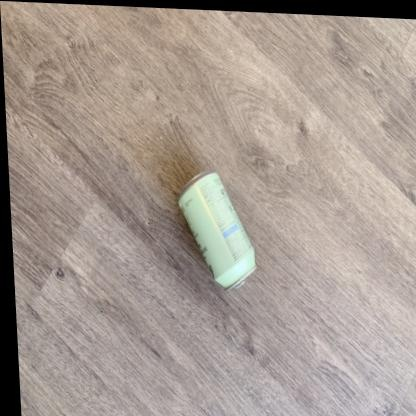trash: (179, 172, 255, 287)
